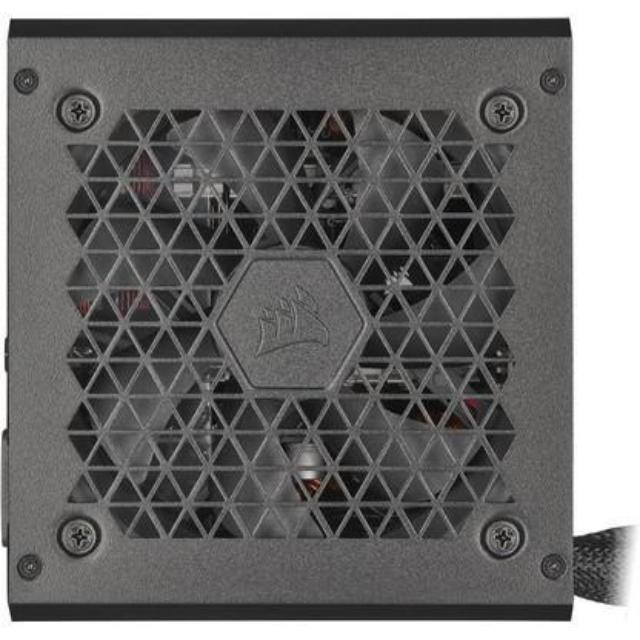PSU: (1, 12, 606, 634)
